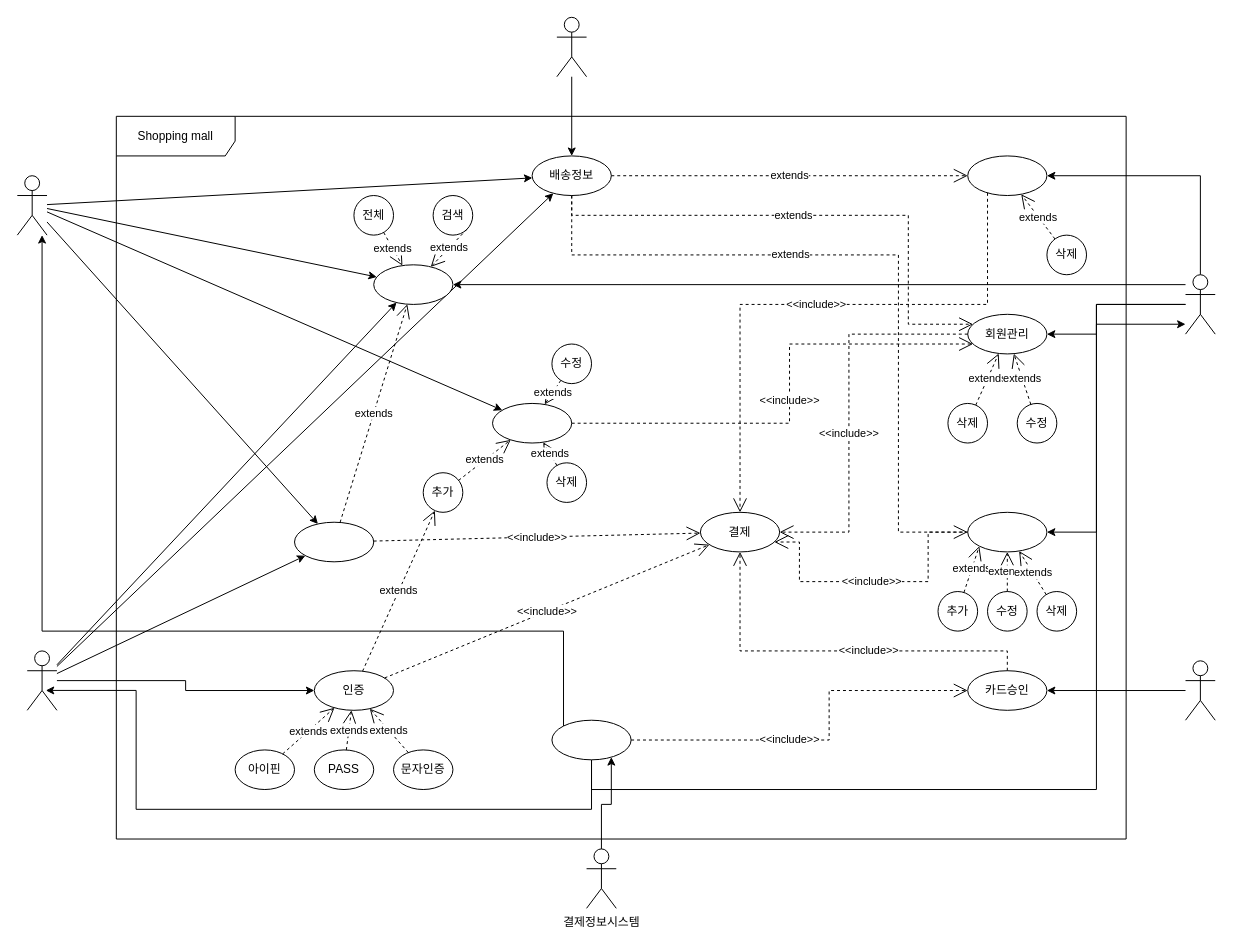
This 1244x946 diagram has some shape labels left out. Here are the shapes that lost their labels. From the top down, the centre of each, then its label:
the point at 571,46: 택배사
the point at 1007,175: 비회원관리
the point at 31,205: 회원
the point at 413,284: 상품조회
the point at 1200,304: 쇼핑몰직원
the point at 532,422: 회원정보
the point at 334,541: 상품구매
the point at 1007,531: 상품관리
the point at 41,680: 비회원
the point at 1200,690: 카드사
the point at 591,739: 메세지
